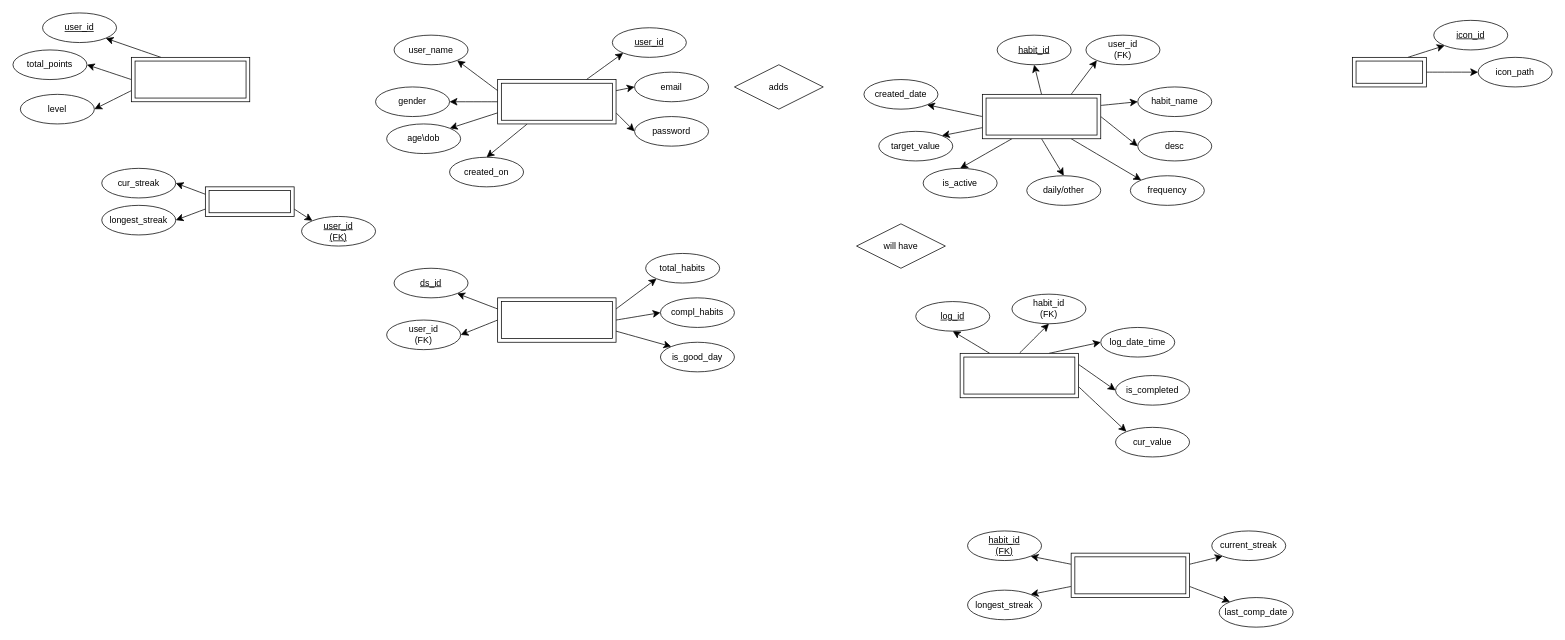
Some shapes in this 1565 by 640 pixel diagram are drawn without their labels. Here are the shapes that lost their labels. From the top down, the centre of each, then its label:
At (x=190, y=79): "Points".
At (x=1389, y=72): "Habit Icons".
At (x=556, y=101): "User".
At (x=1041, y=116): "Habits".
At (x=249, y=201): "Daily Streak".
At (x=556, y=319): "Daily Summary".
At (x=1019, y=375): "Habits Log".
At (x=1130, y=575): "Habit Streak".
